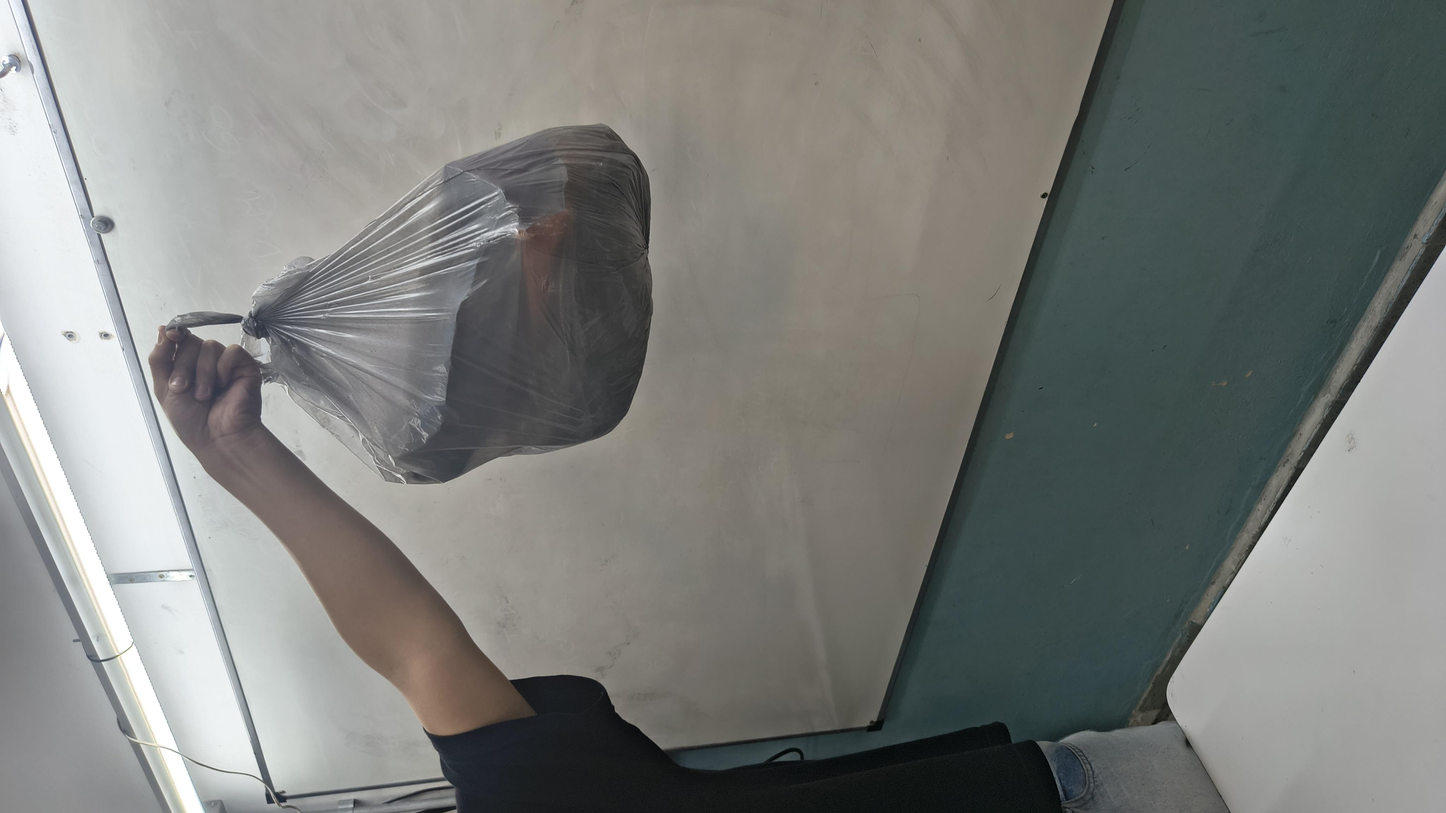Garbage: (552, 101, 1280, 381)
